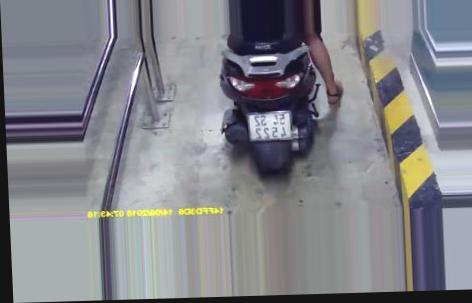License_Plate: (244, 107, 298, 148)
